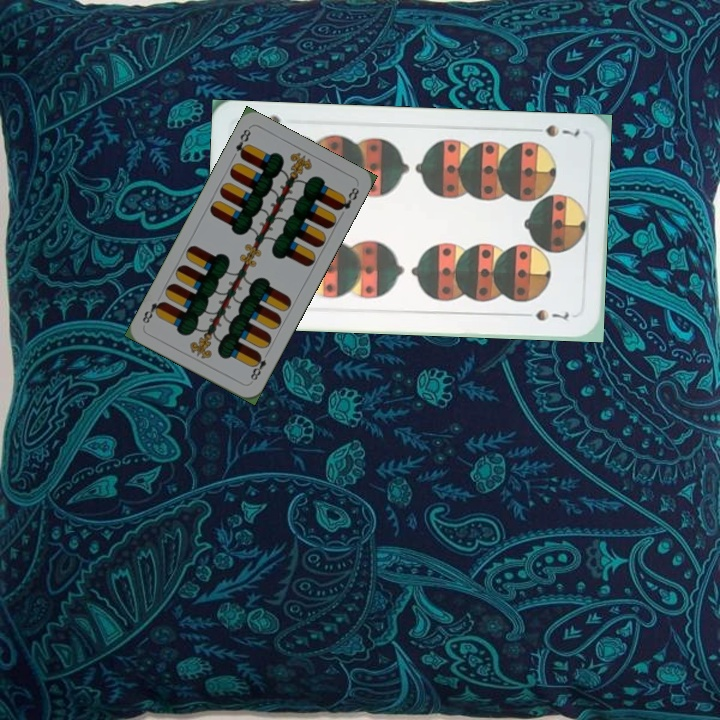E8: (246, 349, 269, 385), (231, 125, 254, 161)
S7: (542, 121, 582, 140)
